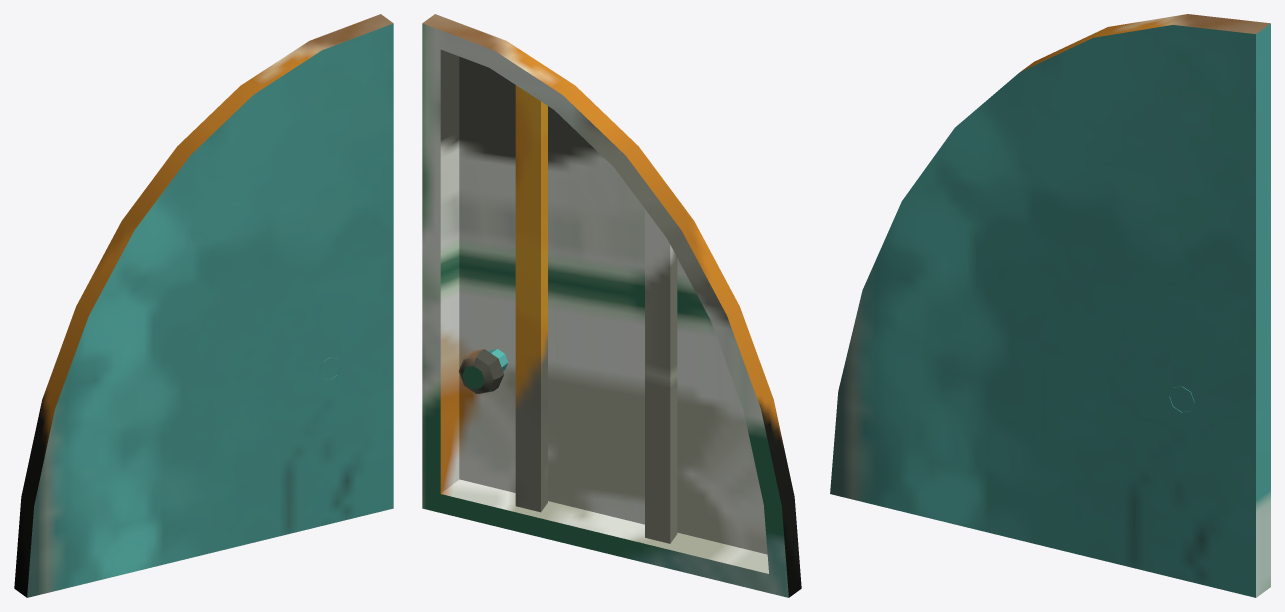
The model's file is RockBridgeDoor_right.fbx.
The picture shows the model from 3 angles, left to right: view 1: azimuth 30°, elevation 25°; view 2: azimuth 150°, elevation 25°; view 3: azimuth 330°, elevation 25°; orthographic projection. The views are drawn at different scales.
Parts seen in each view (by area): view 1: RockBridgeDoor_right; view 2: RockBridgeDoor_right; view 3: RockBridgeDoor_right.
Part boxes in pixels (bbox=[...]): RockBridgeDoor_right: bbox=[14, 14, 393, 597]; RockBridgeDoor_right: bbox=[422, 14, 801, 597]; RockBridgeDoor_right: bbox=[830, 14, 1270, 597].
Size of the model in its own units: 1.89 by 2.39 by 0.2271.
